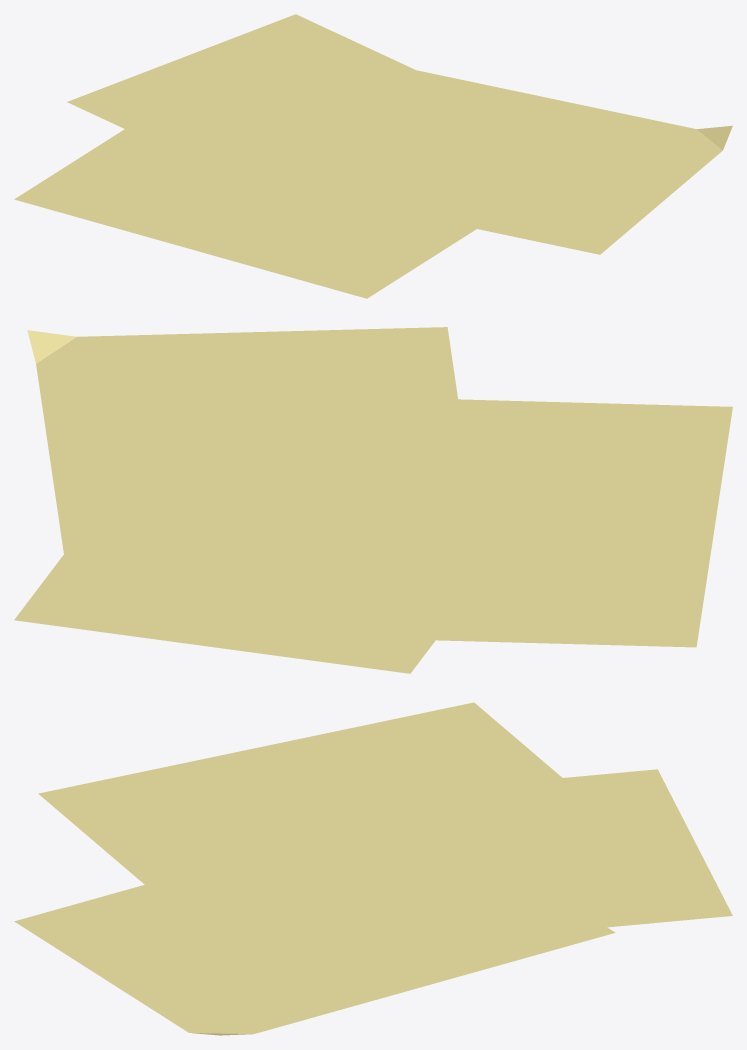
Rendered from Office_Paper.glb.
3 renders of one model, top to bottom at view 1: azimuth 30°, elevation 25°; view 2: azimuth 150°, elevation 25°; view 3: azimuth 270°, elevation 25°, orthographic. The views are drawn at different scales.
Parts seen in each view (by area): view 1: Plane; view 2: Plane; view 3: Plane.
Part boxes in pixels (x1,y1,x2,y2): Plane: [14, 14, 732, 298]; Plane: [14, 327, 732, 673]; Plane: [14, 702, 732, 1035].
Size of the model in its own units: 0.5093 by 0.00736 by 0.4544.
